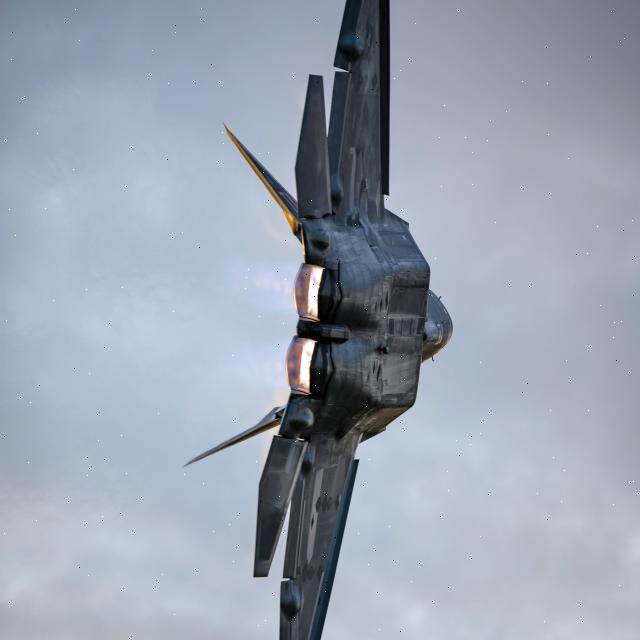F22: (125, 0, 531, 640)
